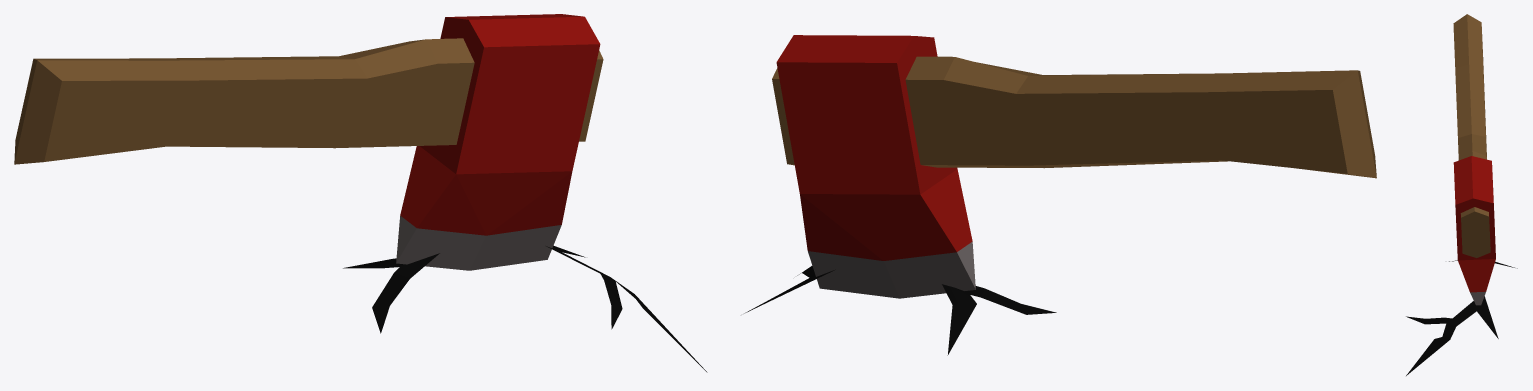
File: hat_axe.glb
3 renders of one model, left to right at view 1: azimuth 30°, elevation 25°; view 2: azimuth 150°, elevation 25°; view 3: azimuth 270°, elevation 25°, orthographic. The views are drawn at different scales.
Parts seen in each view (by area): view 1: hat_axe; view 2: hat_axe; view 3: hat_axe.
Boxes of the visible parts, bbox=[...] form: hat_axe: bbox=[14, 14, 707, 372]; hat_axe: bbox=[744, 35, 1376, 355]; hat_axe: bbox=[1406, 14, 1517, 375].
Size of the model in its own units: 0.4338 by 0.2755 by 0.134.
